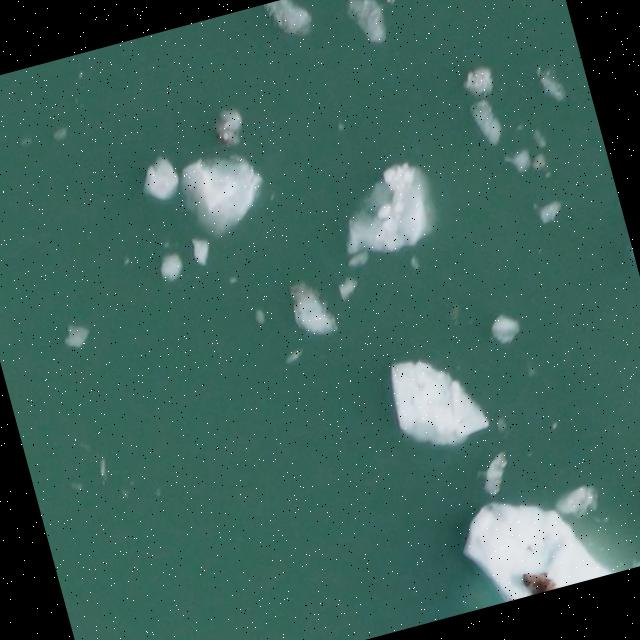seal: (520, 567, 557, 596)
